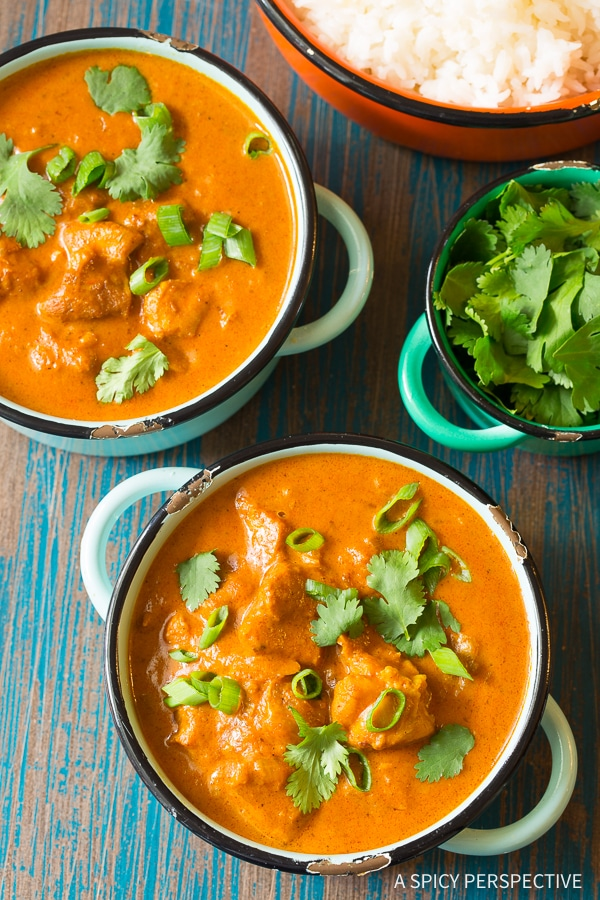chicken_curry: (133, 476, 498, 814), (7, 58, 264, 397)
